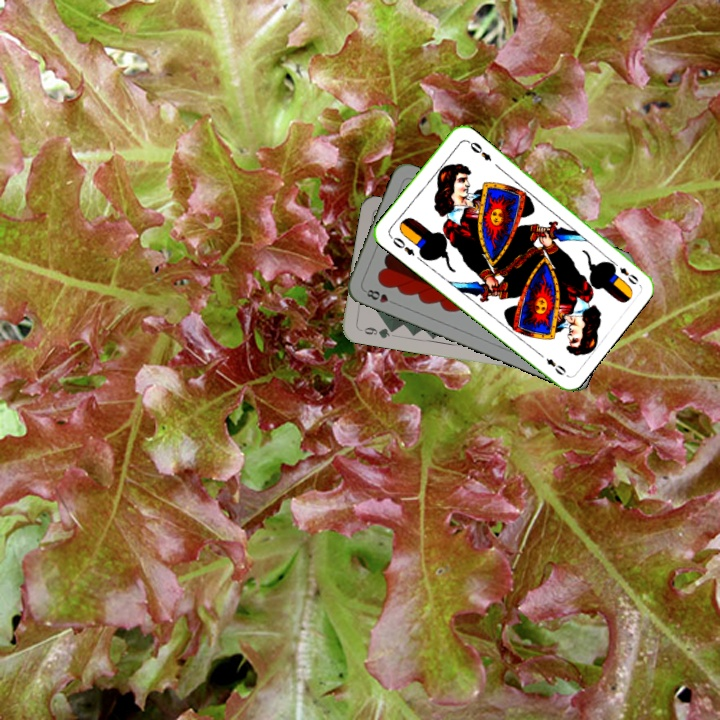EO: (386, 231, 417, 258), (615, 263, 641, 287)
G9: (355, 323, 396, 341)
H8: (360, 285, 399, 307)
